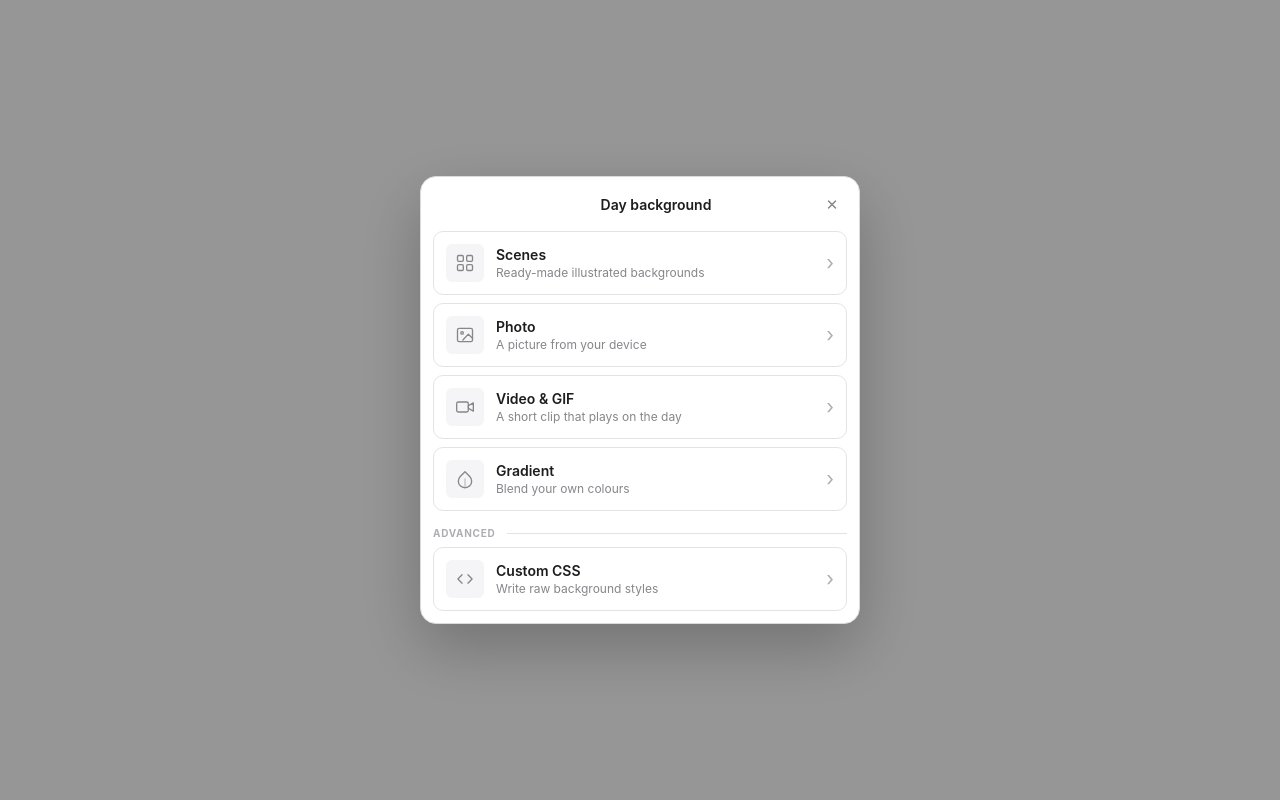
Test: day background studio — one step at a time › opens the clip view on the drop zone alone — no link field, no clip length
The width and height of the screenshot is (1280, 800).
Click the button "Video & GIF A short clip that plays on the day ›" at (640, 407), box x1=433 y1=375 x2=847 y2=439
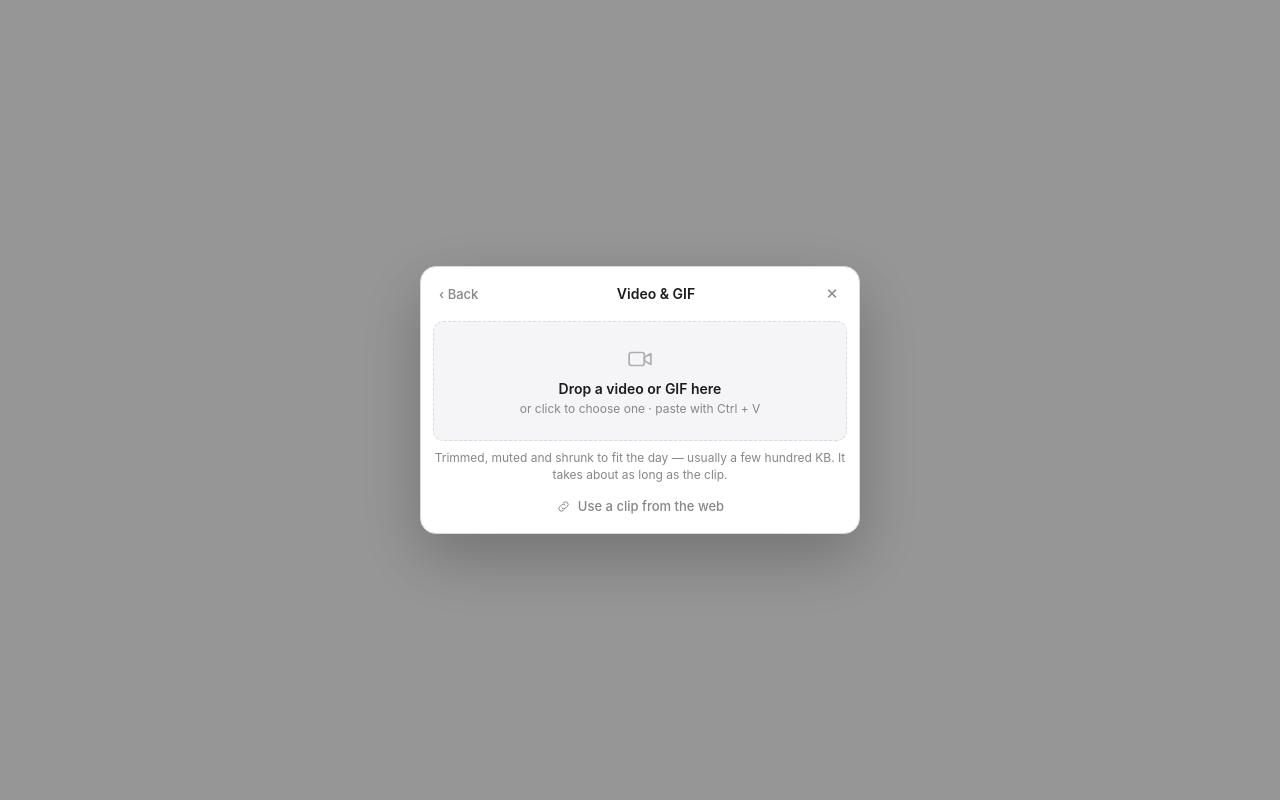
expect the text "Drop a video or GIF here" is shown: met, box x1=559 y1=380 x2=721 y2=397
